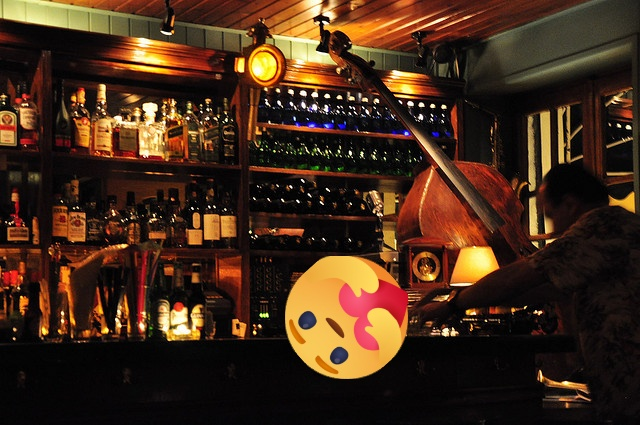care: (285, 256, 408, 379)
